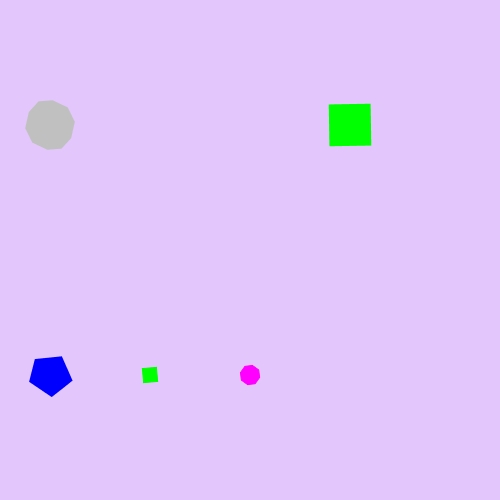decagon: (21, 98, 80, 152)
octagon: (235, 360, 265, 390)
pentagon: (26, 351, 75, 400)
quadrilateral: (318, 93, 383, 158), (135, 360, 165, 390)
